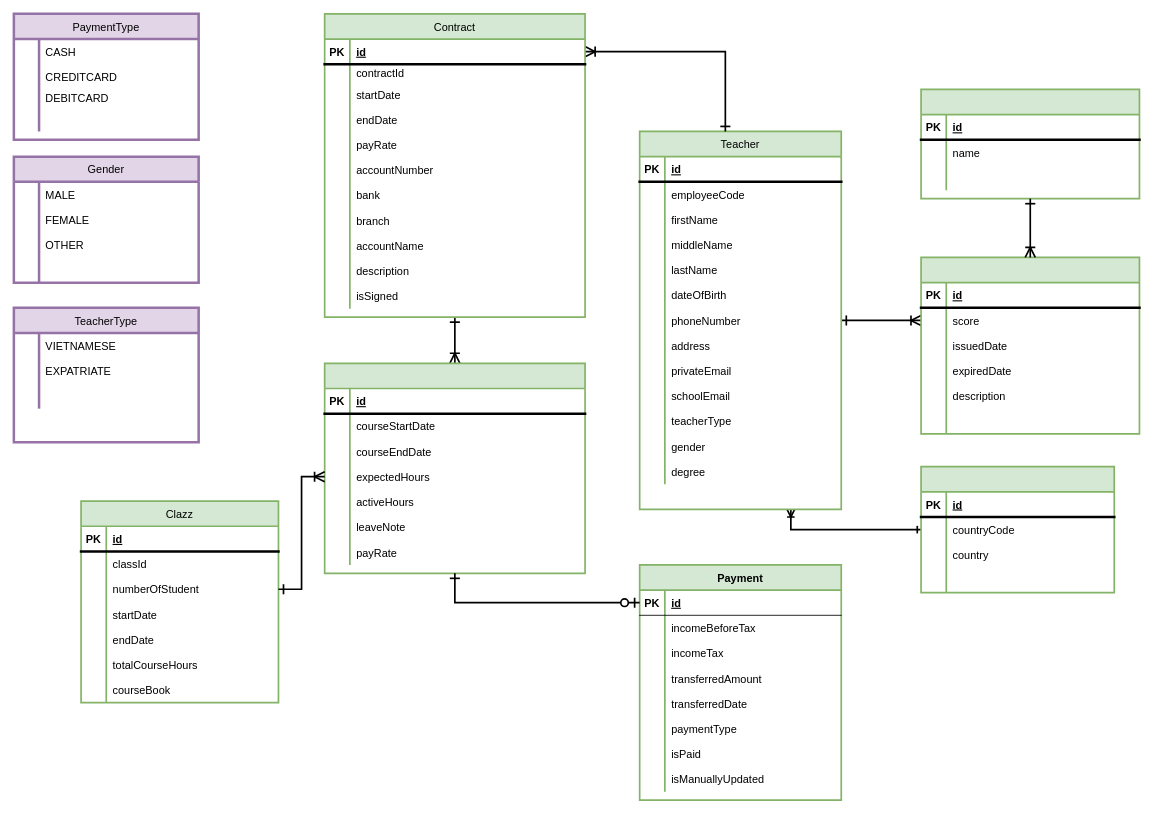
Some shapes in this 1153 by 814 pixel diagram are drawn without their labels. The box of each missing label's shape, as (x1, y1, x2, y2) in pixels:
AssignmentDetail: (323, 362, 585, 574)
Certificate: (920, 88, 1140, 199)
CertificateDetail: (920, 256, 1140, 434)
Nationality: (920, 465, 1115, 593)
